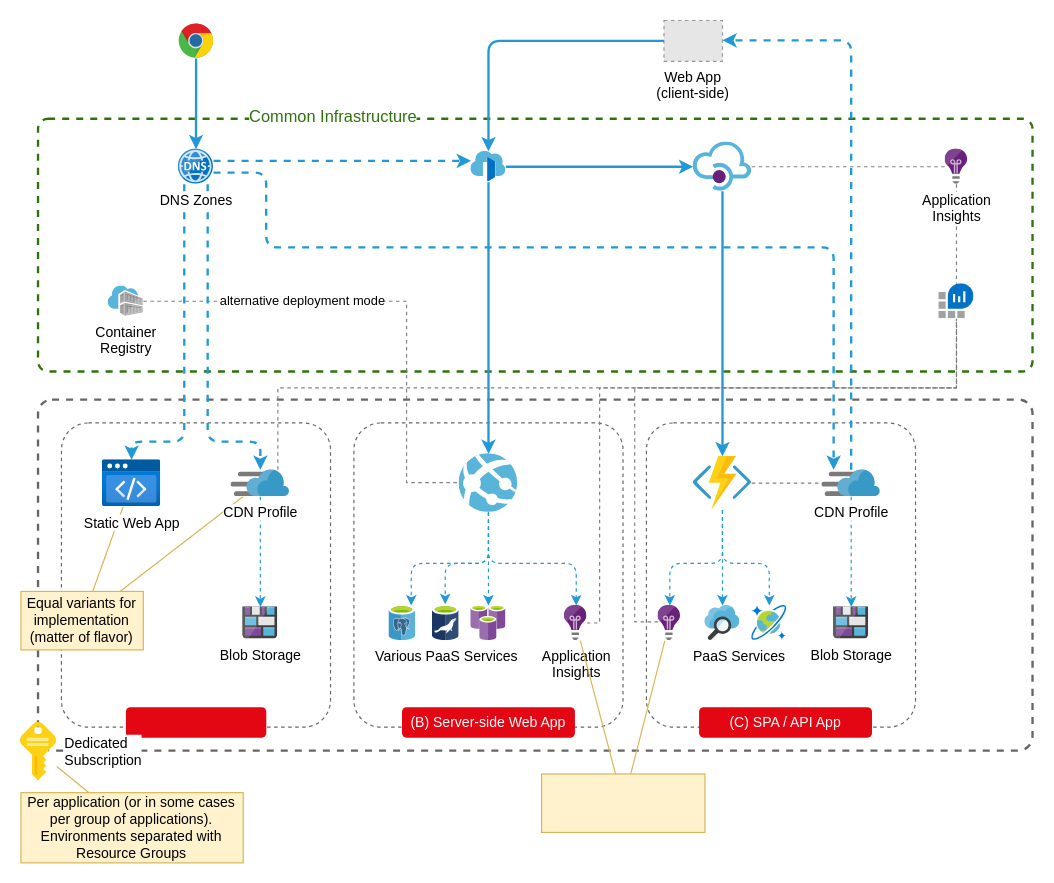
This 1054x883 diagram has some shape labels left out. Grey dashed boxes stand in for pictures. The shapes that lost their labels are listed below. From the top down, each one's box as (x1, y1, x2, y2) in pixels, then its label:
(177, 22, 214, 58): Consumers (Browser- / API-based)
(470, 151, 505, 182): Front Door (incl. WAF)
(693, 142, 751, 191): API Management
(938, 283, 973, 318): Log Analytics Workspace
(459, 453, 517, 512): App Service
(693, 456, 751, 510): Function App (App Service)
(125, 707, 266, 737): (A) Static Content
(540, 773, 705, 832): Log intelligence per Application but with central storage / archive
